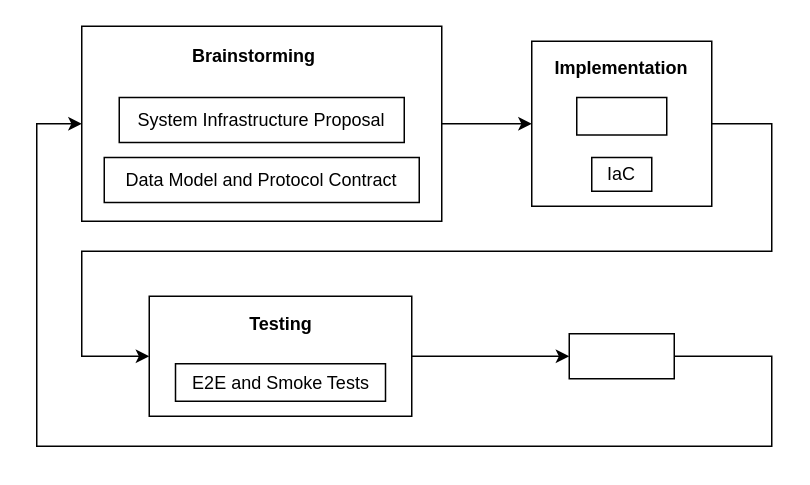
Some shapes in this 810 by 485 pixel diagram are drawn without their labels. The centre of each missing label's shape, as x and y in pixels:
"Release" belongs at pixel 621 355.
"Services" belongs at pixel 621 115.
